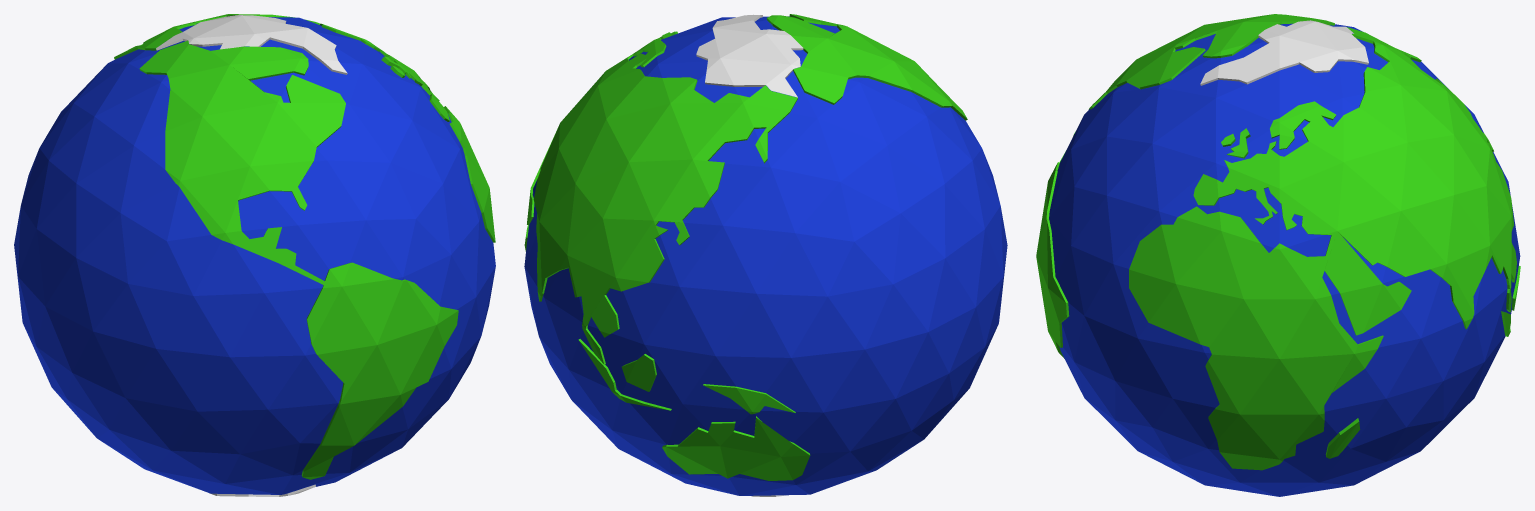
The model's file is earth-transformed.glb.
3 views of the same model, side by side, from view 1: azimuth 30°, elevation 25°; view 2: azimuth 150°, elevation 25°; view 3: azimuth 270°, elevation 25° (orthographic).
Visible parts, largest first — view 1: Icosphere.001_0, Icosphere.001_1, Icosphere.001_2; view 2: Icosphere.001_0, Icosphere.001_1, Icosphere.001_2; view 3: Icosphere.001_1, Icosphere.001_0, Icosphere.001_2.
Part boxes in pixels (x1=…): Icosphere.001_0: x1=14, y1=17, x2=495, y2=494; Icosphere.001_1: x1=114, y1=14, x2=495, y2=479; Icosphere.001_2: x1=156, y1=15, x2=347, y2=496; Icosphere.001_0: x1=524, y1=16, x2=1007, y2=495; Icosphere.001_1: x1=524, y1=14, x2=967, y2=480; Icosphere.001_2: x1=696, y1=14, x2=803, y2=496; Icosphere.001_1: x1=1036, y1=14, x2=1520, y2=470; Icosphere.001_0: x1=1049, y1=23, x2=1520, y2=496; Icosphere.001_2: x1=1200, y1=20, x2=1368, y2=492.
Size of the model in its own units: 2.01 by 2.02 by 2.01.
